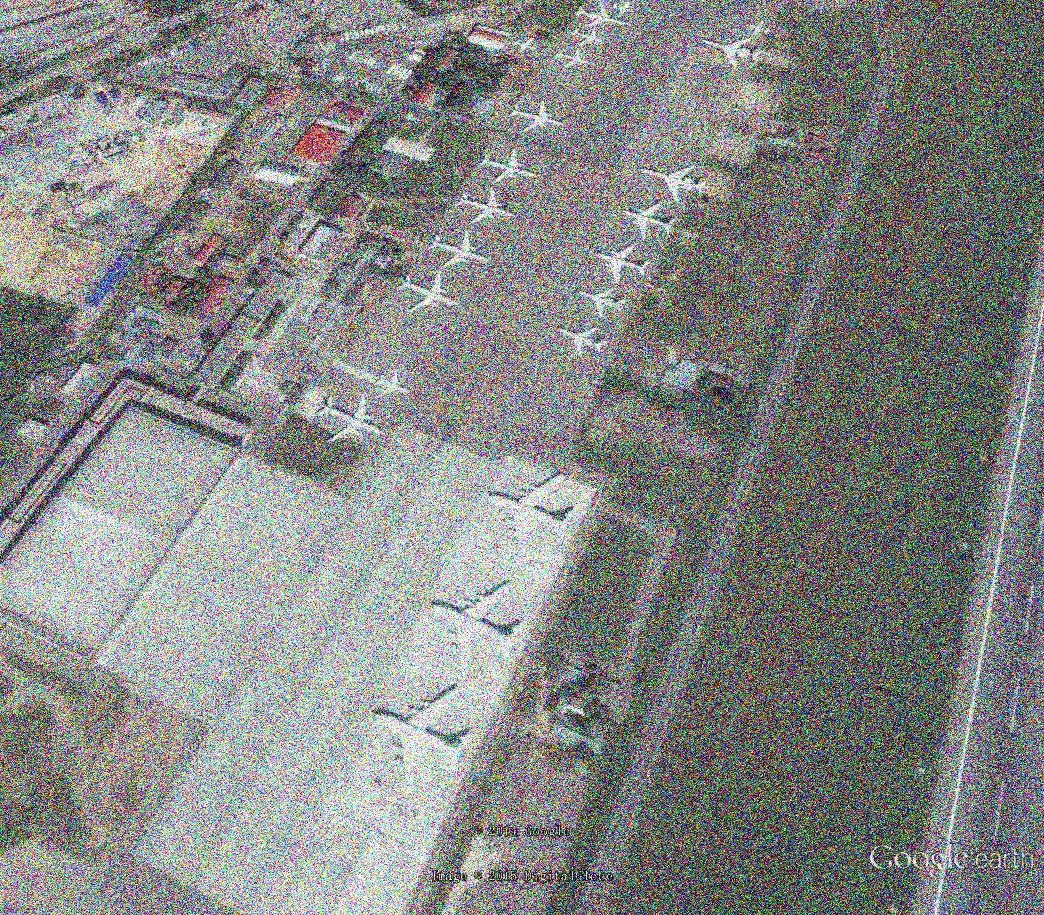aircraft: (368, 685, 480, 799), (427, 578, 528, 681), (485, 471, 580, 557), (315, 390, 388, 444), (396, 269, 465, 317), (639, 162, 709, 207), (591, 239, 654, 287), (427, 227, 494, 270), (452, 185, 521, 225), (619, 199, 680, 243), (475, 146, 539, 186), (504, 96, 570, 134), (700, 35, 765, 71), (573, 284, 631, 321), (555, 324, 611, 360), (573, 0, 632, 30), (372, 368, 412, 402), (555, 45, 593, 69), (569, 27, 607, 47), (611, 1, 638, 20), (513, 37, 541, 55), (747, 19, 773, 38)
